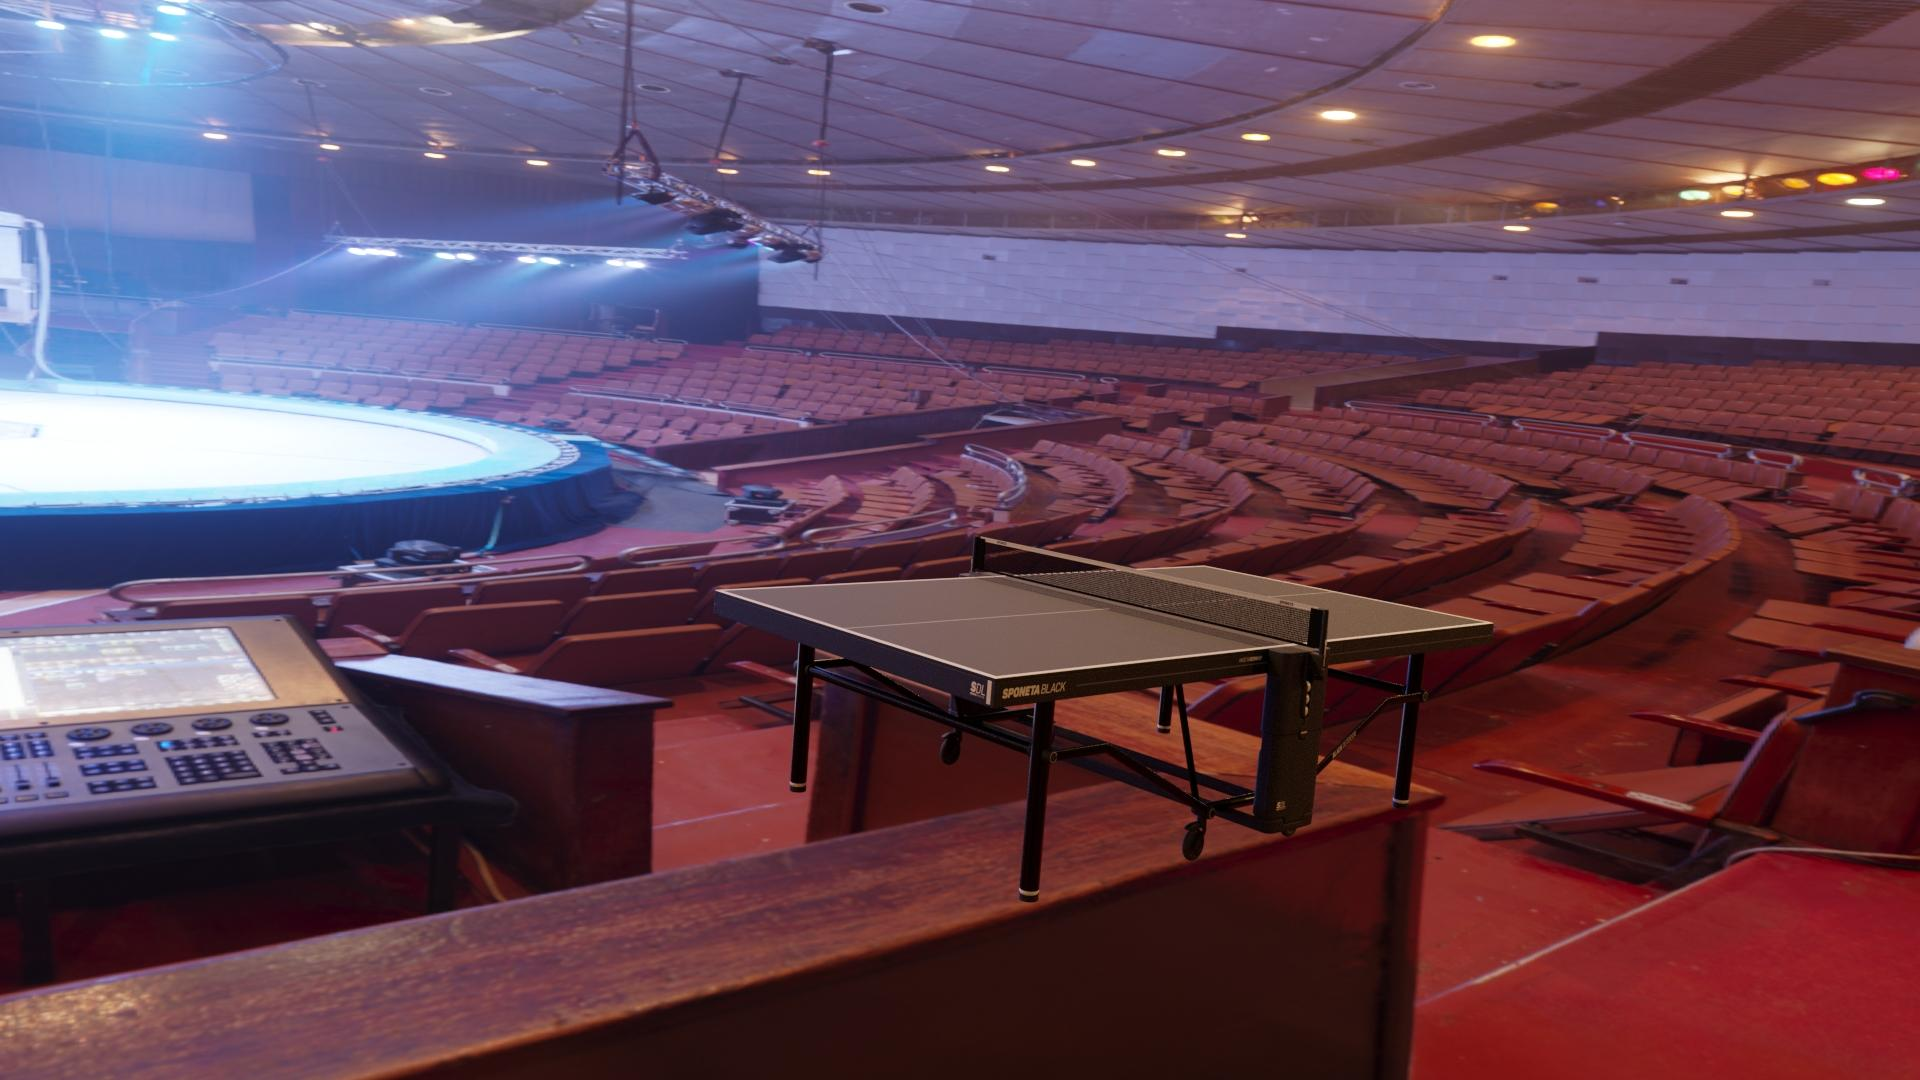table: (723, 567, 1487, 676)
